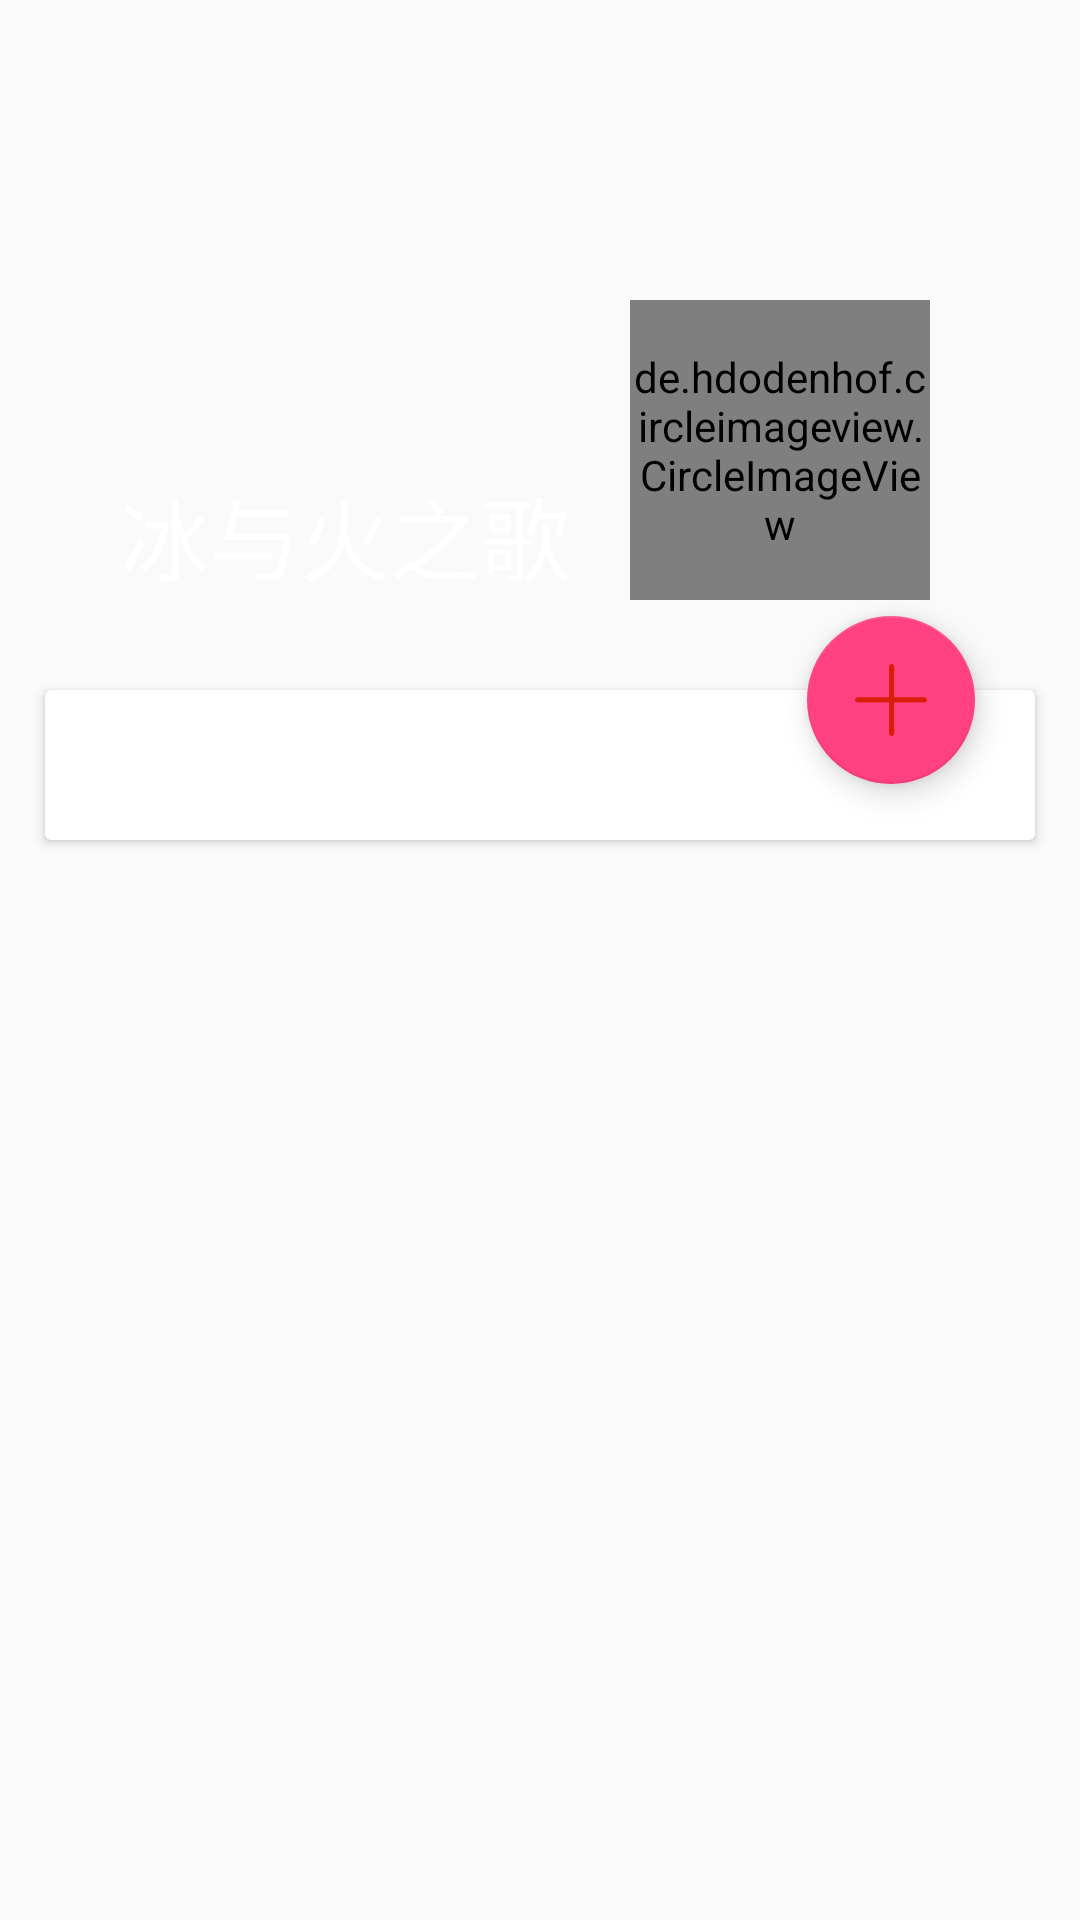

Icon click points for this 1080 x 1920 phone screenshot, format (x,y):
add: (891,700)
